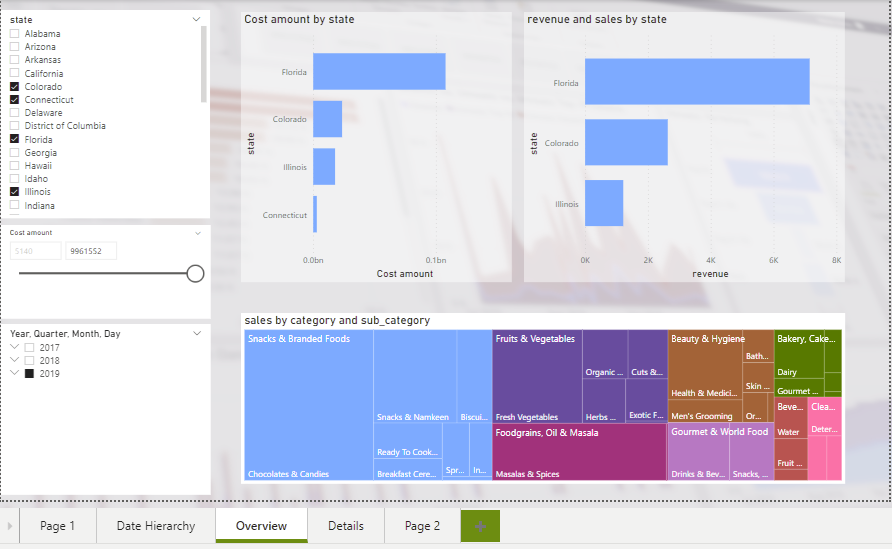

The dashboard page shown, as its layout file describes it:
{"tool":"powerbi","page":{"name":"Overview","canvas":[1280,720],"ordinal":2},"visuals":[{"type":"barChart","fields":{"Category":["stores.state","stores.Cost type"],"Y":["Sum(stores.Cost amount)"]},"box":[345.3,17.5,390,389.1],"z":0},{"type":"slicer","fields":{"Values":["stores.state"]},"box":[0,14.6,300.5,299.6],"z":1000},{"type":"slicer","fields":{"Values":["stores.Cost amount"]},"box":[0,323.9,301.5,135.2],"z":2000},{"type":"slicer","fields":{"Values":["sales2018-2019.Order Date.Variation.Date Hierarchy.Year","sales2018-2019.Order Date.Variation.Date Hierarchy.Quarter","sales2018-2019.Order Date.Variation.Date Hierarchy.Month","sales2018-2019.Order Date.Variation.Date Hierarchy.Day"]},"box":[0,466.9,301.5,246.1],"z":3000},{"type":"barChart","fields":{"Category":["stores.state"],"Y":["Sum(sales2018-2019.revenue)"]},"box":[752.8,17.5,462,389.1],"z":4000},{"type":"treemap","fields":{"Group":["producthierarchy.category"],"Values":["Sum(sales2018-2019.sales)"],"Details":["producthierarchy.sub_category"]},"box":[345.3,450.3,869.5,246.1],"z":5000}]}

Visuals, with their boxes on the page's 1280x720 design canvas (x1, y1, x2, y2). These are canvas units, not pixel positions in the 892x549 screenshot, which may show the page scaled, cropped or inside an application window:
barChart - stores.state x stores.Cost type: bbox=[345, 18, 735, 407]
slicer - stores.state: bbox=[0, 15, 300, 314]
slicer - stores.Cost amount: bbox=[0, 324, 302, 459]
slicer - sales2018-2019.Order Date.Variation.Date Hierarchy.Year x sales2018-2019.Order Date.Variation.Date Hierarchy.Quarter: bbox=[0, 467, 302, 713]
barChart - stores.state x Sum(sales2018-2019.revenue): bbox=[753, 18, 1215, 407]
treemap - producthierarchy.category x Sum(sales2018-2019.sales): bbox=[345, 450, 1215, 696]
